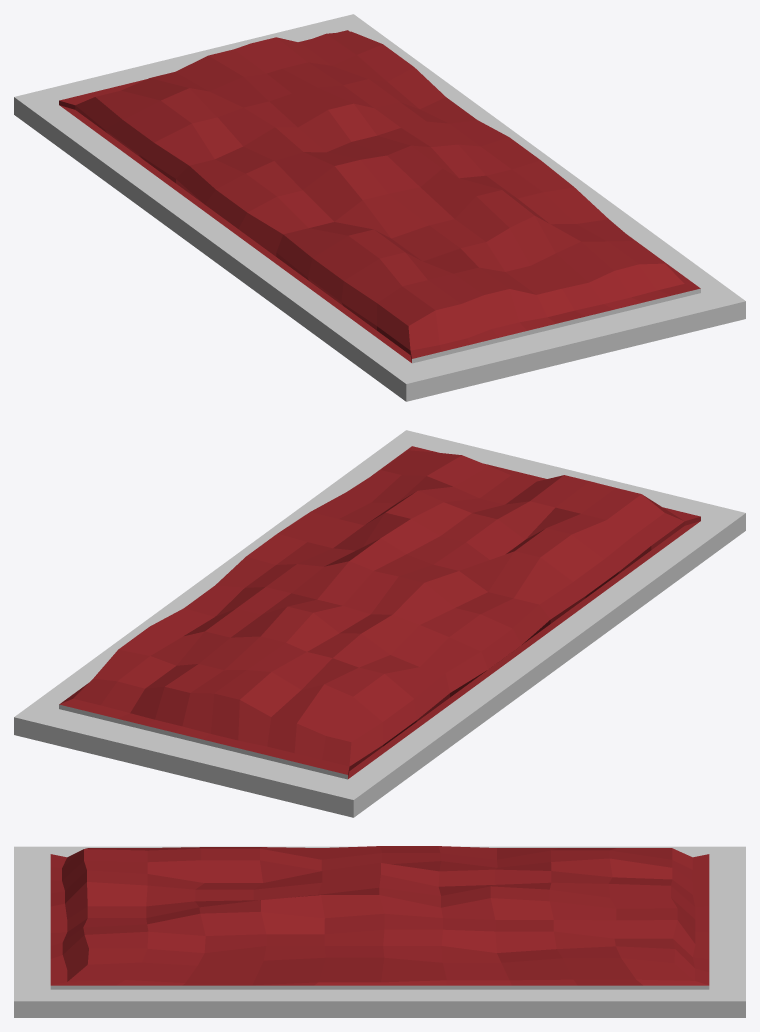
File: KetchupPacket.fbx
3 views of the same model, one above another, from view 1: azimuth 30°, elevation 25°; view 2: azimuth 150°, elevation 25°; view 3: azimuth 270°, elevation 25° (orthographic). The views are drawn at different scales.
Visible parts, largest first — view 1: Cube; view 2: Cube; view 3: Cube.
Part boxes in pixels (box(x1,y1,x2,y2)): Cube: box(14, 14, 745, 401); Cube: box(14, 430, 745, 817); Cube: box(14, 846, 745, 1017).
Size of the model in its own units: 200 by 35.98 by 400.
